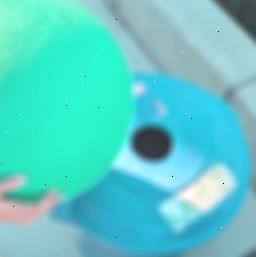algae: (0, 0, 132, 202)
